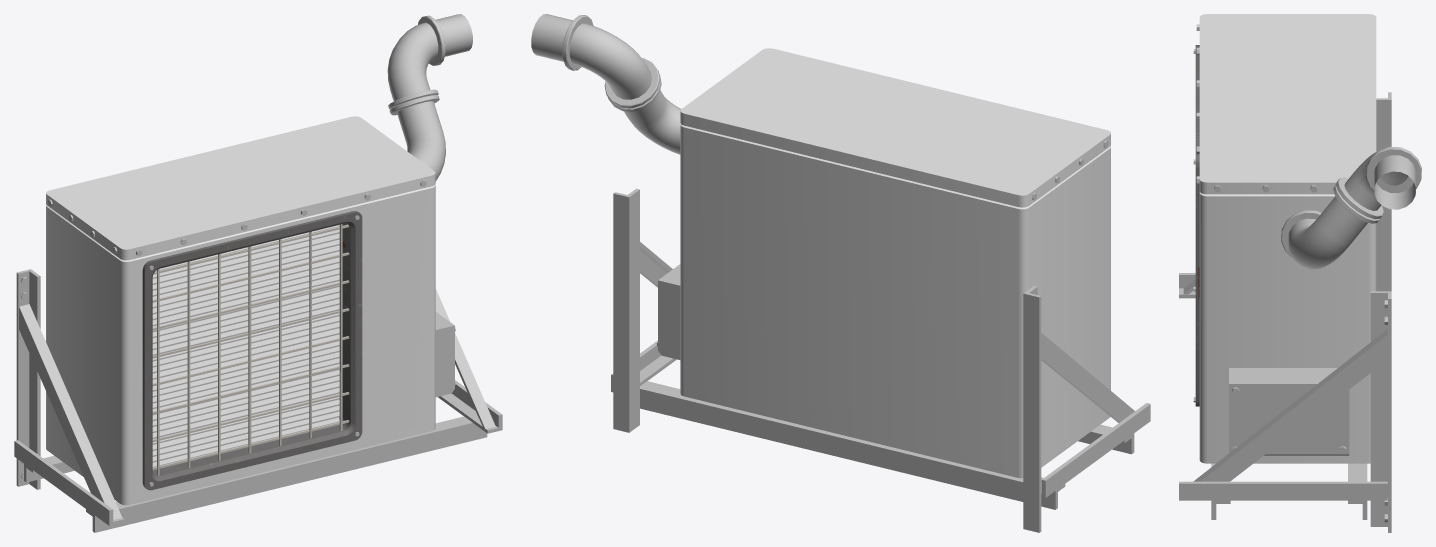
File: KB3D_CBP_ACunit_O.fbx
3 renders of one model, left to right at view 1: azimuth 30°, elevation 25°; view 2: azimuth 150°, elevation 25°; view 3: azimuth 270°, elevation 25°, orthographic. The views are drawn at different scales.
Parts seen in each view (by area): view 1: KB3D_CBP_ACunit_O_Main; view 2: KB3D_CBP_ACunit_O_Main; view 3: KB3D_CBP_ACunit_O_Main.
Part boxes in pixels (x1,y1,x2,y2): KB3D_CBP_ACunit_O_Main: (14,14,502,532); KB3D_CBP_ACunit_O_Main: (531,14,1150,532); KB3D_CBP_ACunit_O_Main: (1179,14,1421,532).
Size of the model in its own units: 123 by 95.33 by 52.23.
